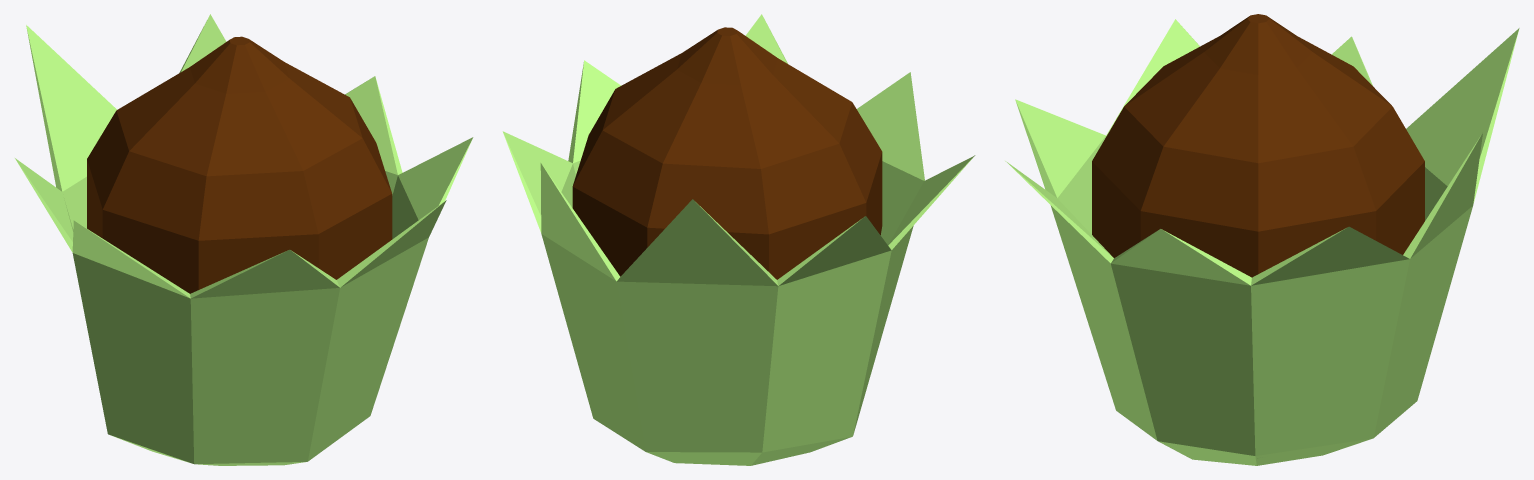
Rendered from hazelnut01.obj.
3 views of the same model, side by side, from view 1: azimuth 30°, elevation 25°; view 2: azimuth 150°, elevation 25°; view 3: azimuth 270°, elevation 25° (orthographic). The views are drawn at different scales.
Parts seen in each view (by area): view 1: Cylinder_Cylinder.002; view 2: Cylinder_Cylinder.002; view 3: Cylinder_Cylinder.002.
Boxes of the visible parts, bbox=[...] form: Cylinder_Cylinder.002: bbox=[15, 14, 473, 465]; Cylinder_Cylinder.002: bbox=[502, 14, 975, 465]; Cylinder_Cylinder.002: bbox=[1005, 14, 1519, 465].
Size of the model in its own units: 0.0267 by 0.027 by 0.0288.
1 material, 1 textured.
